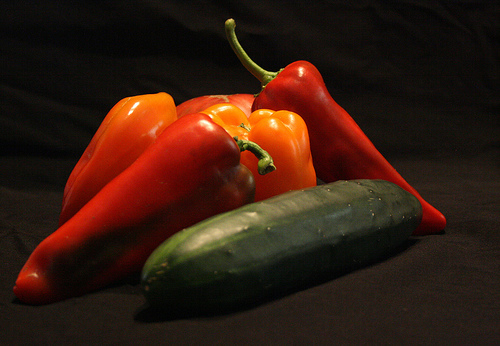cucumber: (137, 177, 426, 312)
